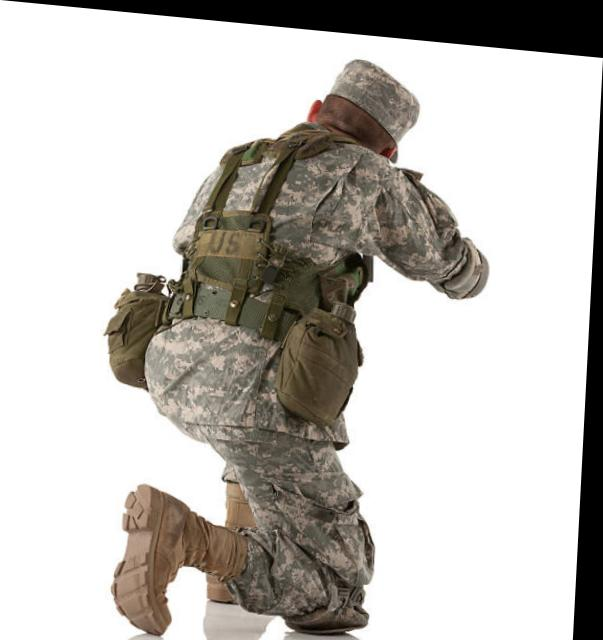other: (116, 57, 497, 638)
